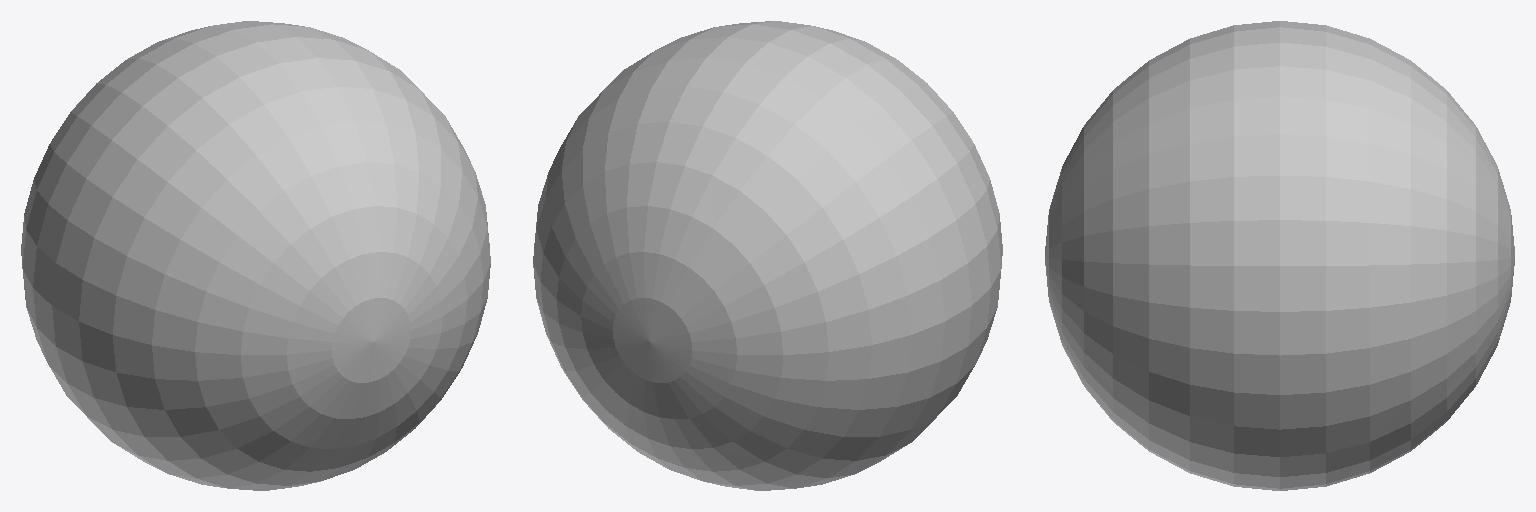
File: skySphere.obj
The picture shows the model from 3 angles: view 1: azimuth 30°, elevation 25°; view 2: azimuth 150°, elevation 25°; view 3: azimuth 270°, elevation 25°; orthographic projection.
Parts seen in each view (by area): view 1: gkmesh_obj; view 2: gkmesh_obj; view 3: gkmesh_obj.
Boxes of the visible parts, x1=… form: gkmesh_obj: x1=21, y1=21, x2=490, y2=490; gkmesh_obj: x1=533, y1=21, x2=1002, y2=490; gkmesh_obj: x1=1045, y1=21, x2=1514, y2=490.
Size of the model in its own units: 2 by 2 by 2.